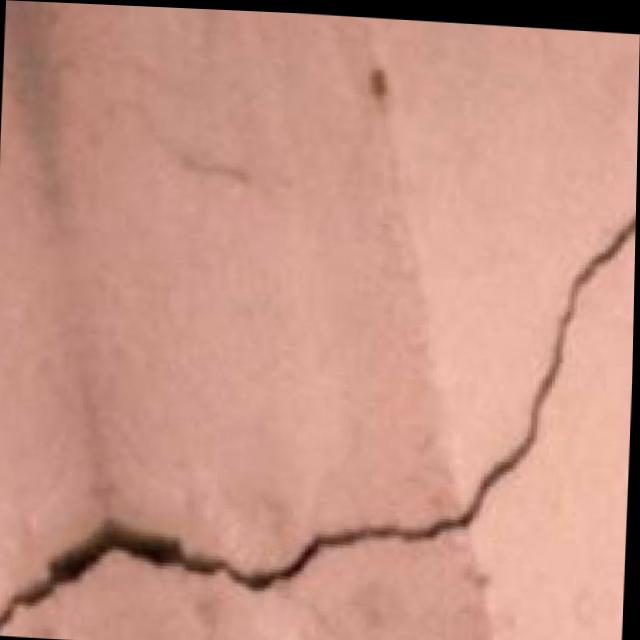Crack: (0, 154, 637, 640)
